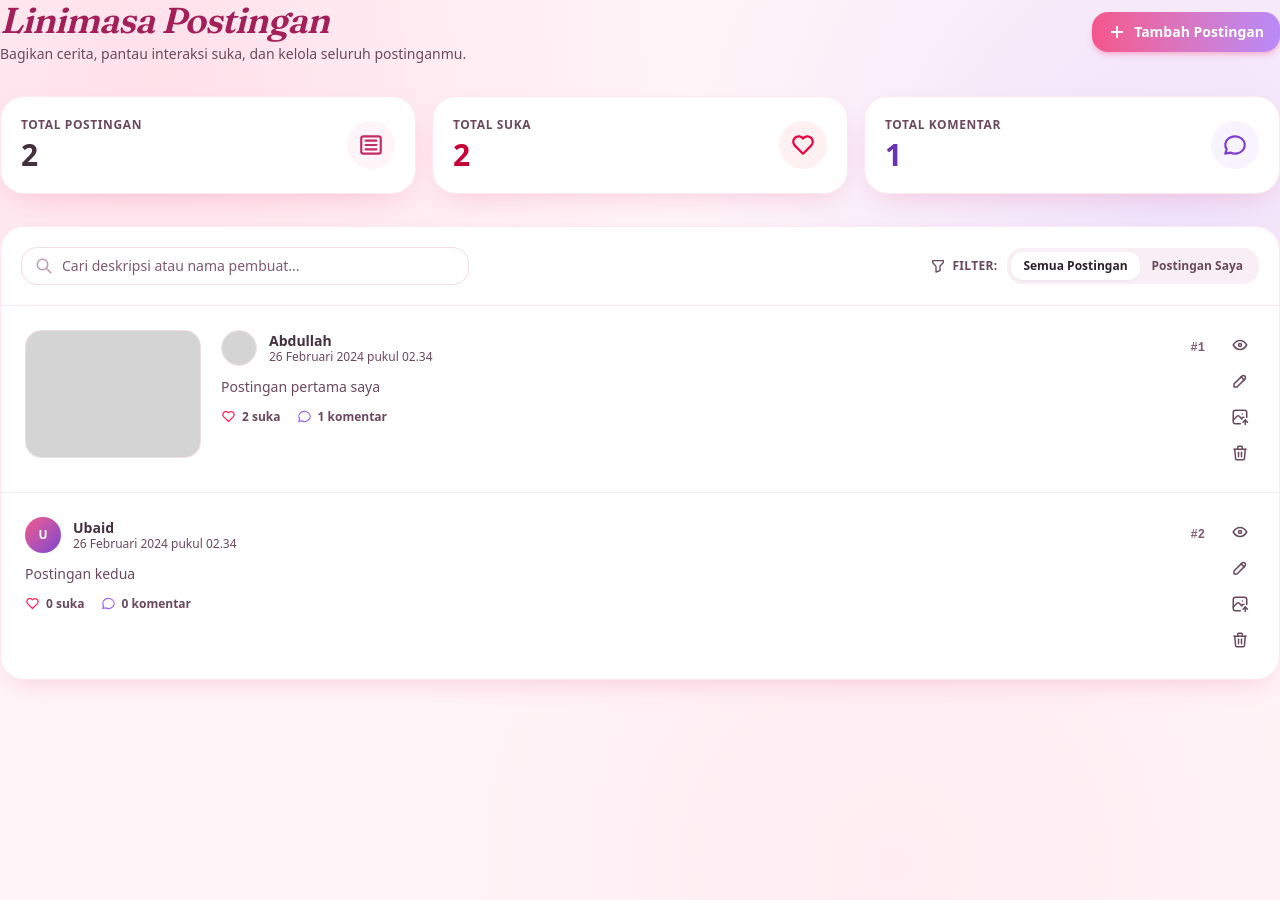
Test: HomePage › should open and close edit modal when edit icon clicked
The image size is (1280, 900).
Click the button with test id "edit-post-1" at [1240, 381], box [1225,366,1255,396]
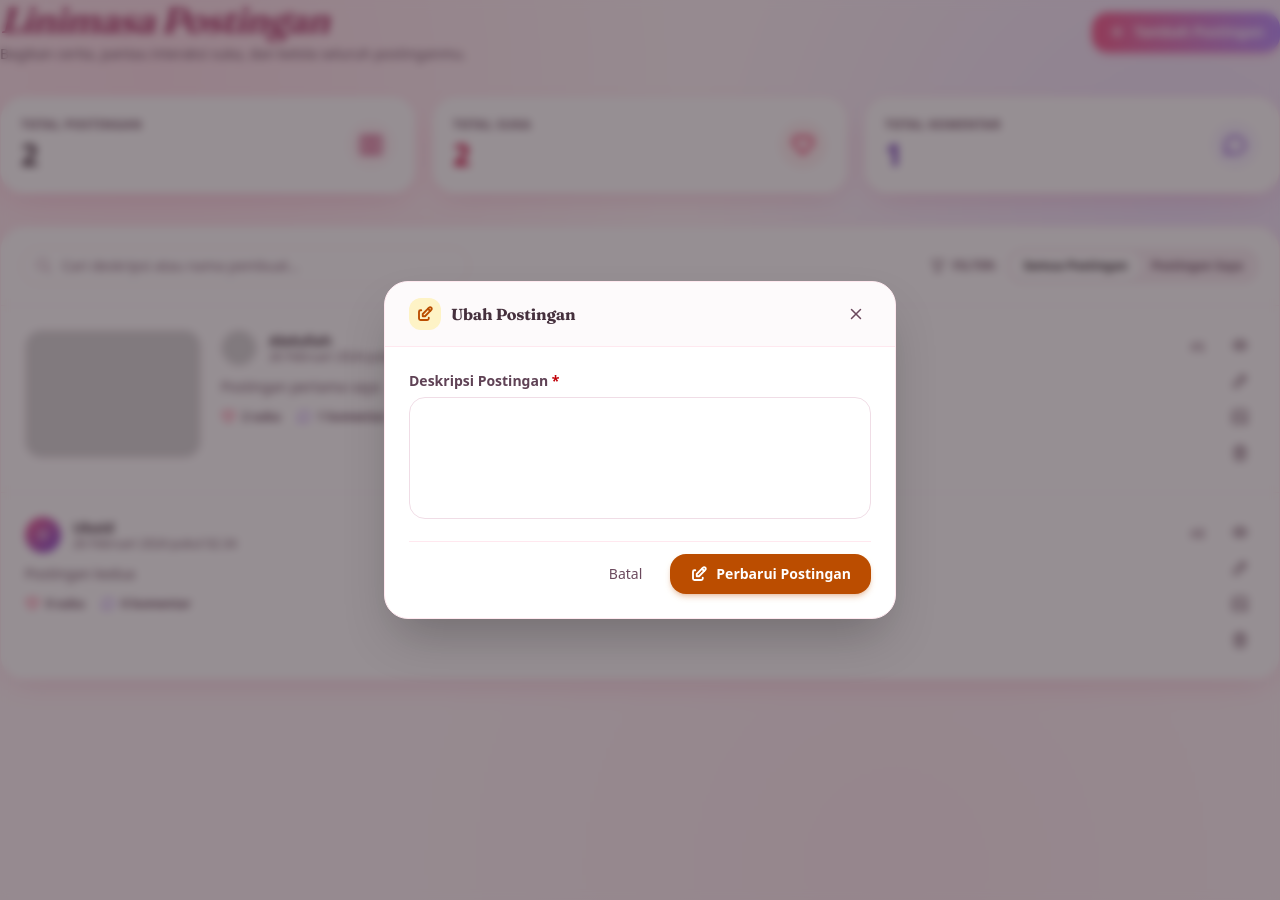
expect the element with test id "edit-post-modal" is shown: met
Click the button with test id "close-edit-modal-btn" at [856, 314], box [841,299,871,329]
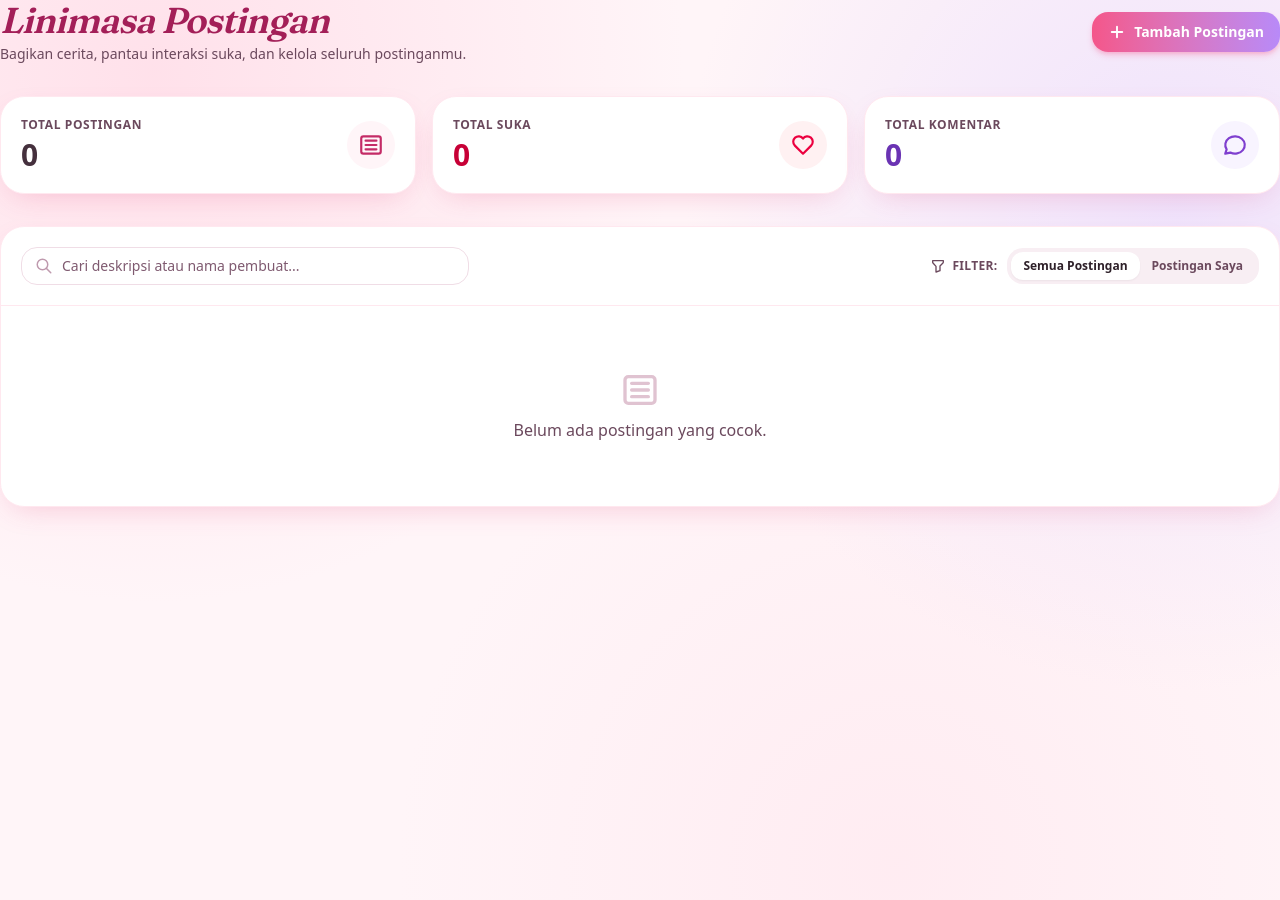
expect the element with test id "edit-post-modal" is gone: met
